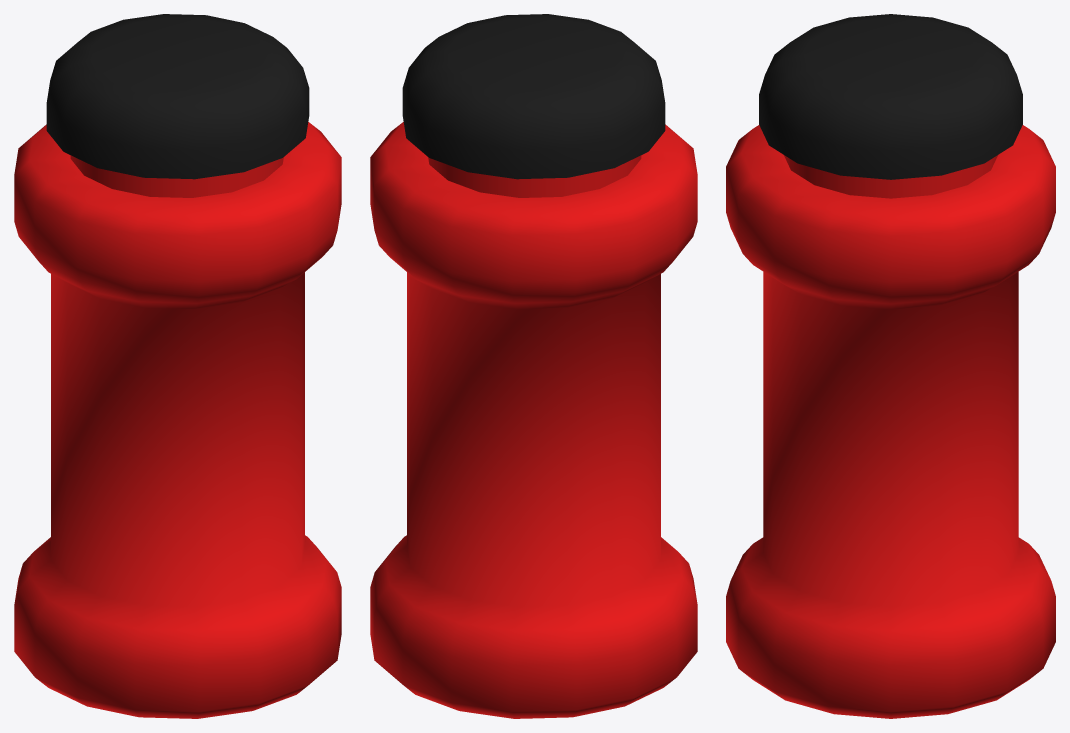
File: BottleTomato_00.fbx
3 views of the same model, side by side, from view 1: azimuth 30°, elevation 25°; view 2: azimuth 150°, elevation 25°; view 3: azimuth 270°, elevation 25° (orthographic).
Parts seen in each view (by area): view 1: BottleTomato_00; view 2: BottleTomato_00; view 3: BottleTomato_00.
Part boxes in pixels (x1,y1,x2,y2): BottleTomato_00: (14,14,341,718); BottleTomato_00: (370,14,697,718); BottleTomato_00: (726,14,1055,718).
Size of the model in its own units: 22 by 44.21 by 22.
